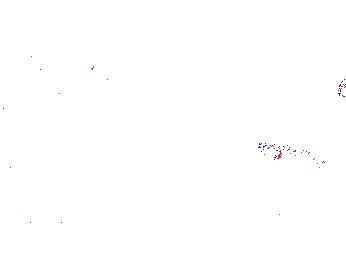X-ray fish: (264, 142, 281, 168), (332, 75, 346, 101)
glassfish: (253, 139, 332, 179)
redtail glassfish: (1, 61, 45, 89), (54, 79, 85, 104), (90, 57, 117, 81)
